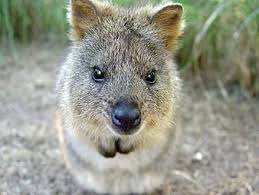quokka: (50, 0, 189, 192)
